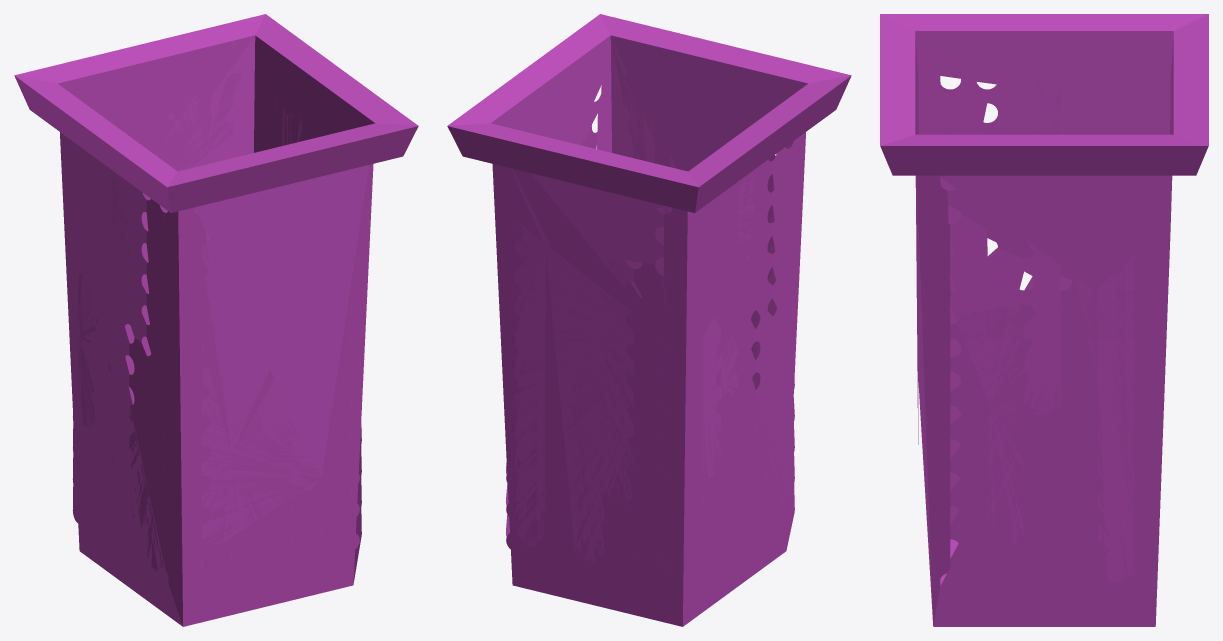
Rendered from Cesto.fbx.
3 views of the same model, side by side, from view 1: azimuth 30°, elevation 25°; view 2: azimuth 150°, elevation 25°; view 3: azimuth 270°, elevation 25° (orthographic). The views are drawn at different scales.
Visible parts, largest first — view 1: Cesto; view 2: Cesto; view 3: Cesto.
Part boxes in pixels (x1,y1,x2,y2): Cesto: (14, 14, 418, 626); Cesto: (447, 14, 851, 626); Cesto: (880, 14, 1208, 626).
Size of the model in its own units: 275 by 488 by 290.
